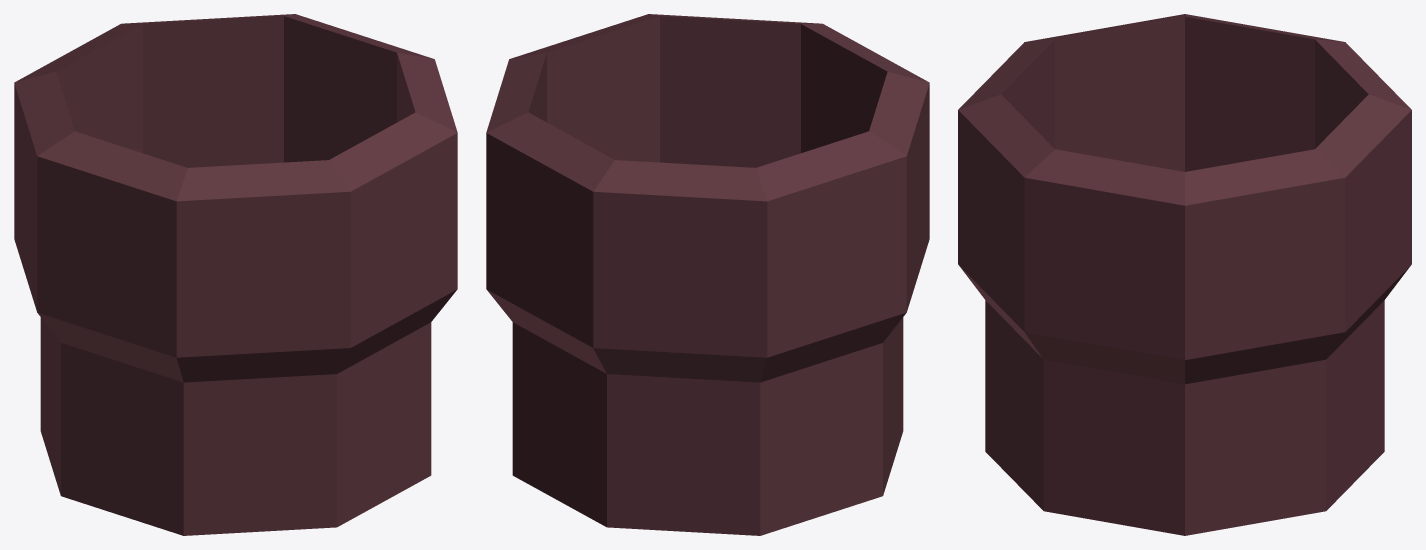
The model's file is furniture-pot-small-circle-empty.glb.
3 renders of one model, left to right at view 1: azimuth 30°, elevation 25°; view 2: azimuth 150°, elevation 25°; view 3: azimuth 270°, elevation 25°, orthographic.
Visible parts, largest first — view 1: pot-small-circle-empty; view 2: pot-small-circle-empty; view 3: pot-small-circle-empty.
Part boxes in pixels (x1,y1,x2,y2): pot-small-circle-empty: (14, 14, 457, 535); pot-small-circle-empty: (486, 14, 929, 535); pot-small-circle-empty: (958, 14, 1411, 535).
Size of the model in its own units: 0.1324 by 0.115 by 0.1324.
